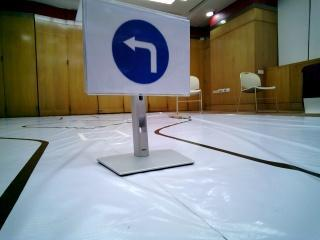left: (84, 9, 181, 97)
